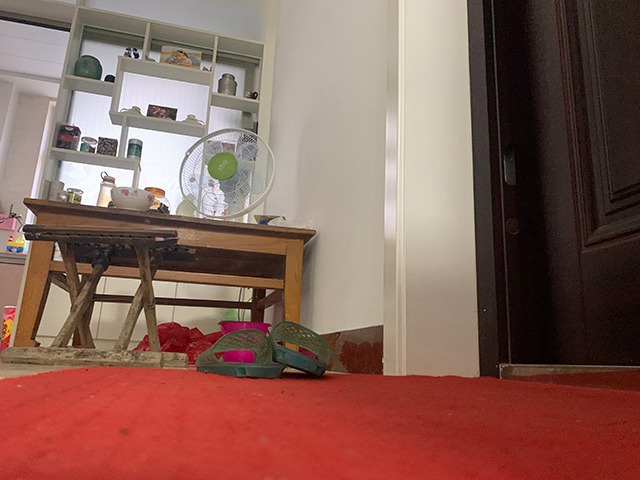carpet: (1, 365, 640, 479)
slippers: (195, 329, 283, 379), (276, 324, 332, 375)
stool: (1, 223, 190, 369)
table: (13, 197, 318, 354)
